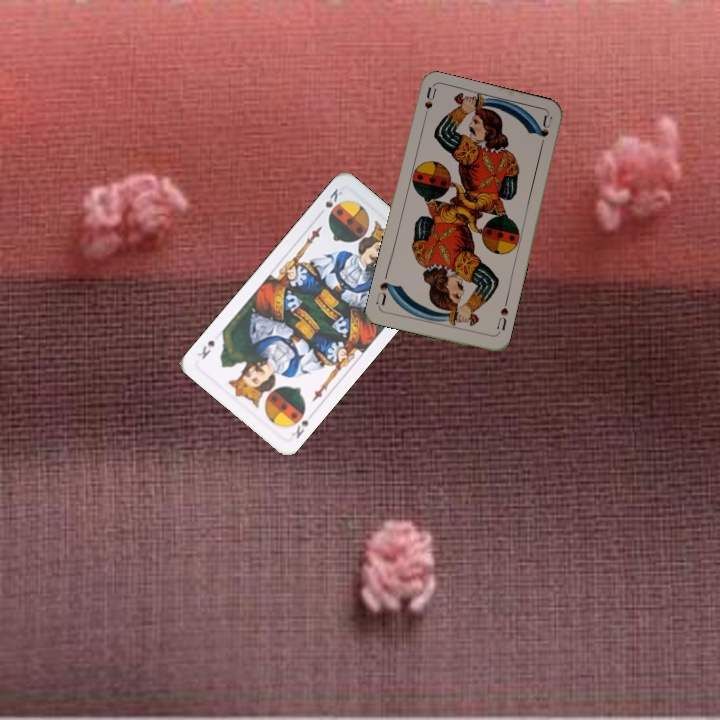SK: (321, 184, 345, 218), (288, 415, 311, 441)
SU: (419, 84, 438, 125), (493, 303, 511, 333)
